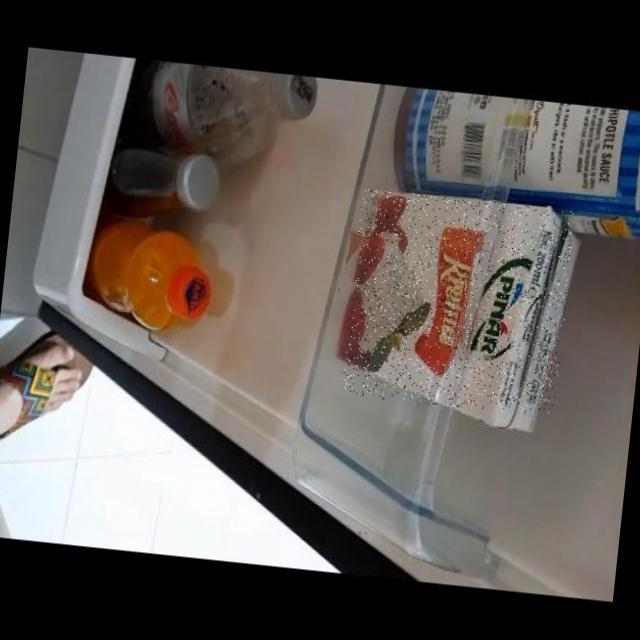cream cheese: (340, 188, 575, 417)
